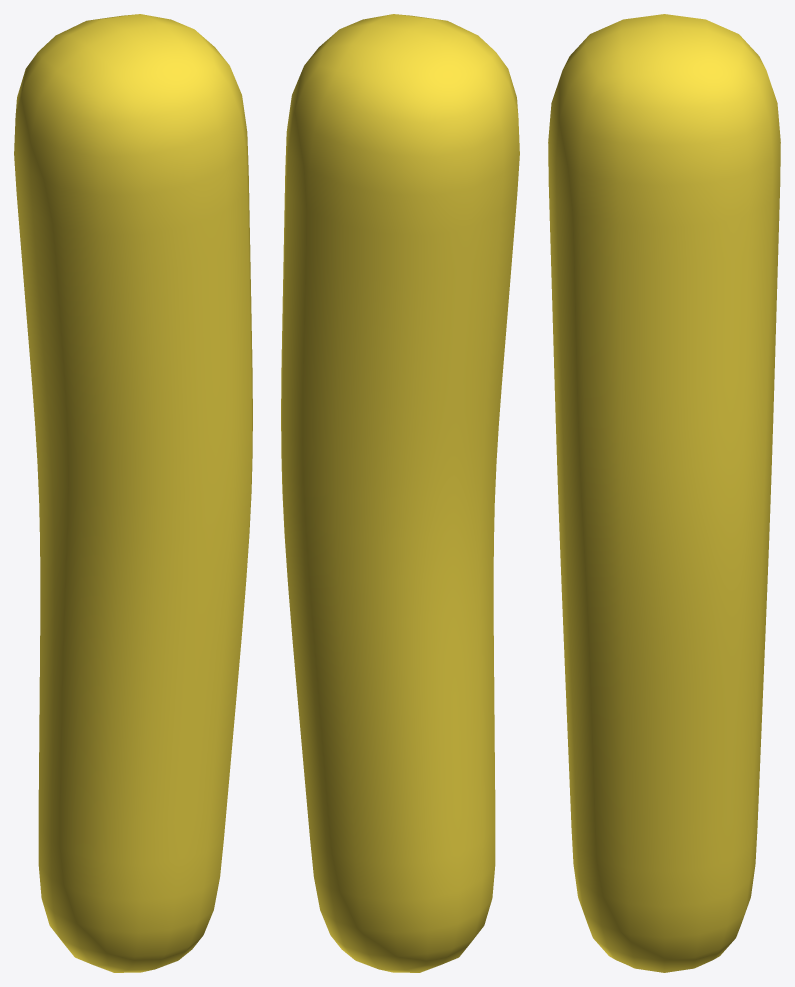
File: SM_SkinStealer_Thigh.fbx
The picture shows the model from 3 angles, left to right: view 1: azimuth 30°, elevation 25°; view 2: azimuth 150°, elevation 25°; view 3: azimuth 270°, elevation 25°; orthographic projection.
Visible parts, largest first — view 1: SM_SkinStealer_Thigh; view 2: SM_SkinStealer_Thigh; view 3: SM_SkinStealer_Thigh.
Part boxes in pixels (x1,y1,x2,y2): SM_SkinStealer_Thigh: (14, 14, 252, 972); SM_SkinStealer_Thigh: (281, 14, 519, 972); SM_SkinStealer_Thigh: (548, 14, 780, 972).
Size of the model in its own units: 13.11 by 56.45 by 12.71.
